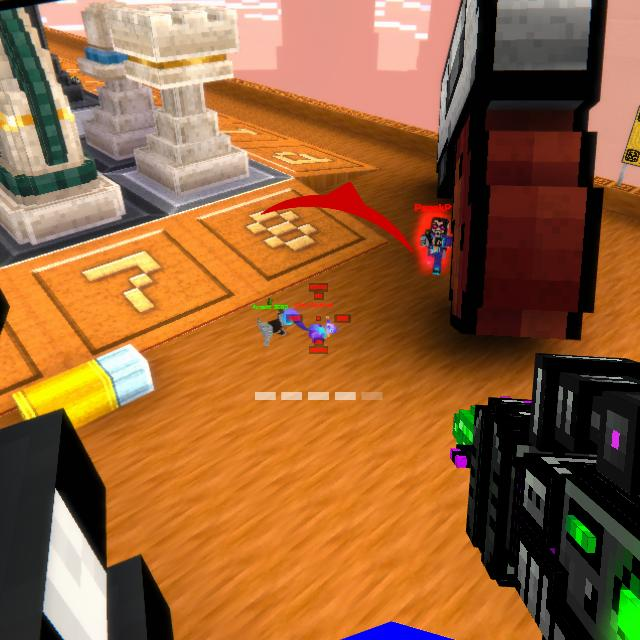Enemy: (422, 217, 454, 277)
